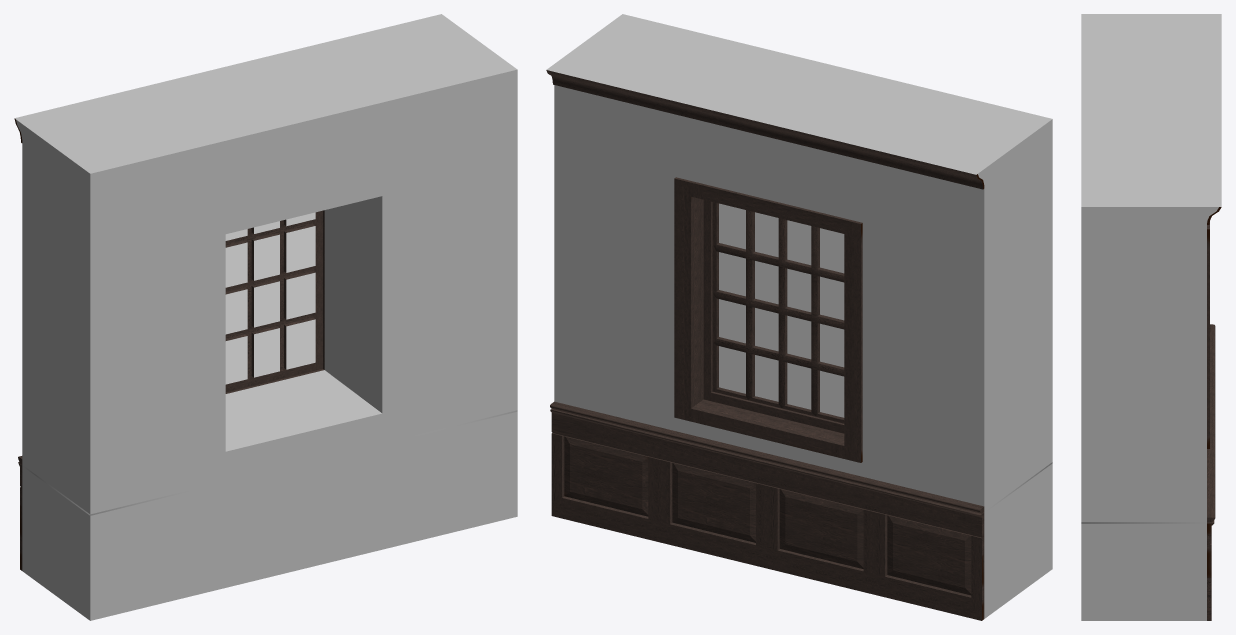
File: wall-panelling-window-1.fbx
The picture shows the model from 3 angles, left to right: view 1: azimuth 30°, elevation 25°; view 2: azimuth 150°, elevation 25°; view 3: azimuth 270°, elevation 25°; orthographic projection. The views are drawn at different scales.
Parts seen in each view (by area): view 1: wall-panelling-window; view 2: wall-panelling-window; view 3: wall-panelling-window.
Part boxes in pixels (<box>): wall-panelling-window: <box>14,14,517,620</box>; wall-panelling-window: <box>546,14,1052,620</box>; wall-panelling-window: <box>1081,14,1221,620</box>.
Bounding box in the file's own units: 123 × 400 × 400.
